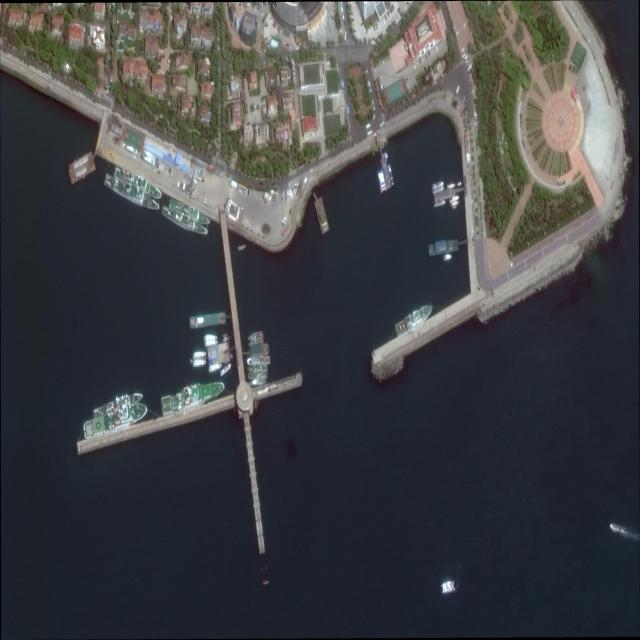ship: (161, 377, 225, 417), (84, 401, 148, 439), (104, 173, 161, 215), (114, 165, 163, 203), (161, 204, 209, 238), (395, 302, 434, 337), (93, 391, 143, 418), (169, 198, 211, 229), (190, 312, 226, 329), (314, 197, 330, 235), (249, 340, 270, 362), (440, 580, 455, 595), (378, 169, 387, 193), (247, 356, 270, 365), (220, 362, 232, 377), (248, 330, 264, 341), (248, 336, 264, 347), (248, 371, 267, 380), (143, 149, 157, 161), (124, 143, 138, 155), (249, 378, 266, 387), (143, 155, 155, 167), (248, 365, 268, 372), (209, 363, 223, 373), (388, 164, 394, 186), (610, 523, 622, 533), (193, 359, 206, 367), (431, 181, 444, 189), (432, 186, 445, 194), (434, 200, 446, 208), (193, 351, 206, 358), (449, 195, 460, 203), (204, 335, 218, 341), (450, 199, 460, 207), (205, 341, 218, 347), (447, 183, 456, 190), (443, 254, 452, 261), (238, 245, 247, 251), (452, 205, 457, 210), (385, 152, 388, 159)
